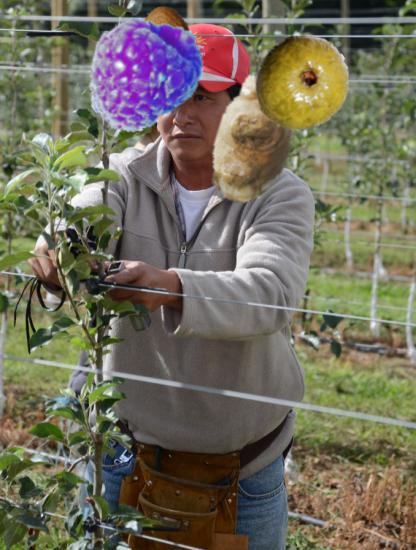Ginger: (185, 66, 326, 207)
Guava: (252, 33, 352, 133)
Kiwi: (142, 3, 193, 54)
Raspberry: (79, 7, 204, 132)
